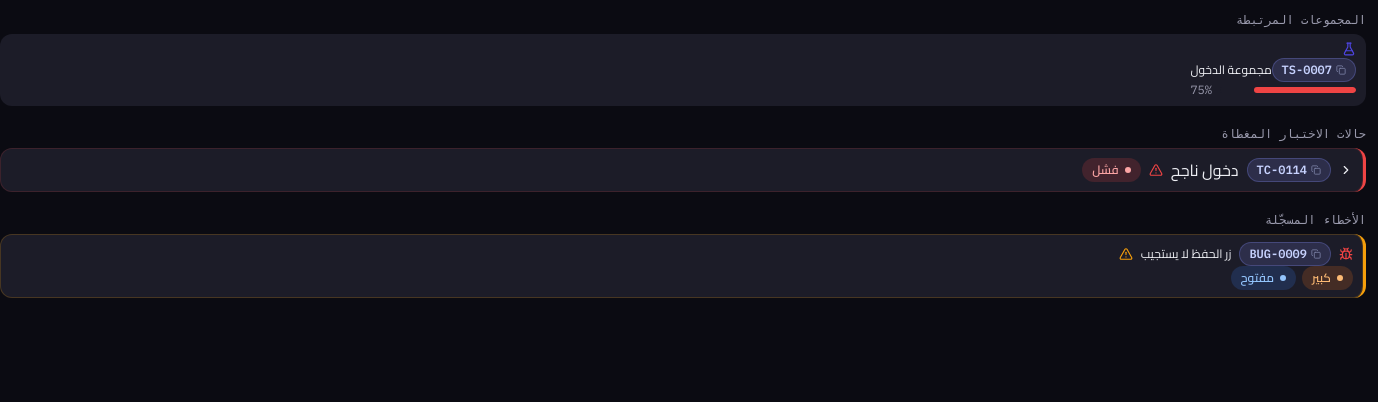
Test case: TicketTestingSection › expands a case to read-only steps — the workspace is where they are edited
The image size is (1378, 402).
Click the button named "خطوات التنفيذ" at point(1346, 170), box [1339, 163, 1353, 177]
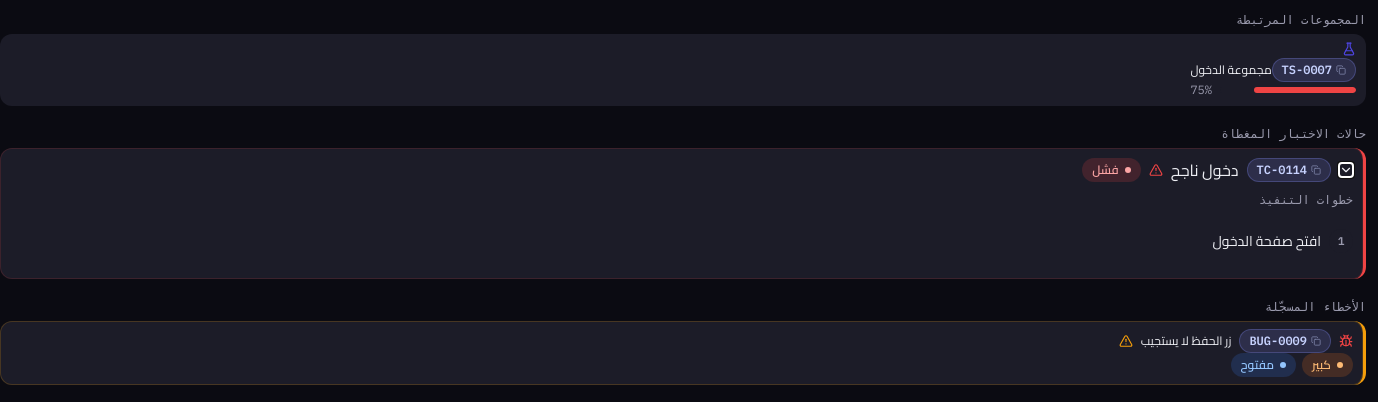
Expected: the text "افتح صفحة الدخول" is shown, [1212, 228, 1321, 254]
